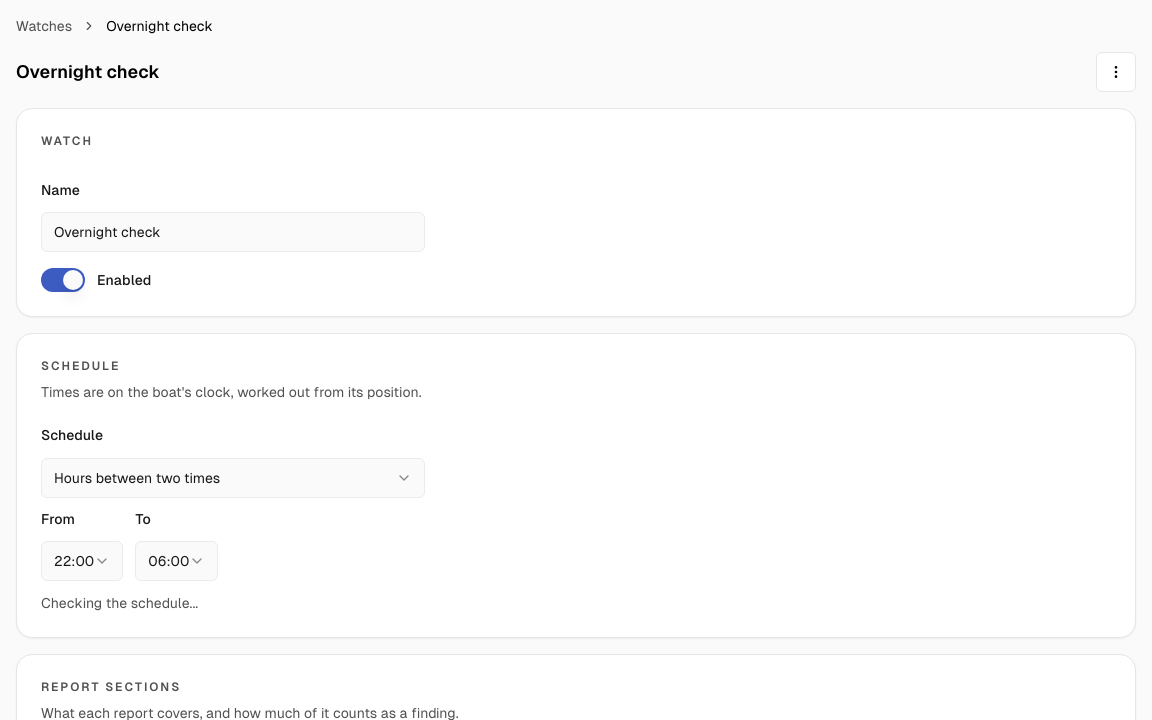
WatchDetailsPage settings › blocks Save and says why when the server refuses the schedule
Step 1. Replace the text in the field showing "Overnight check" with "Renamed" → (233, 232), box [41,212,425,252]
(page scrolled)
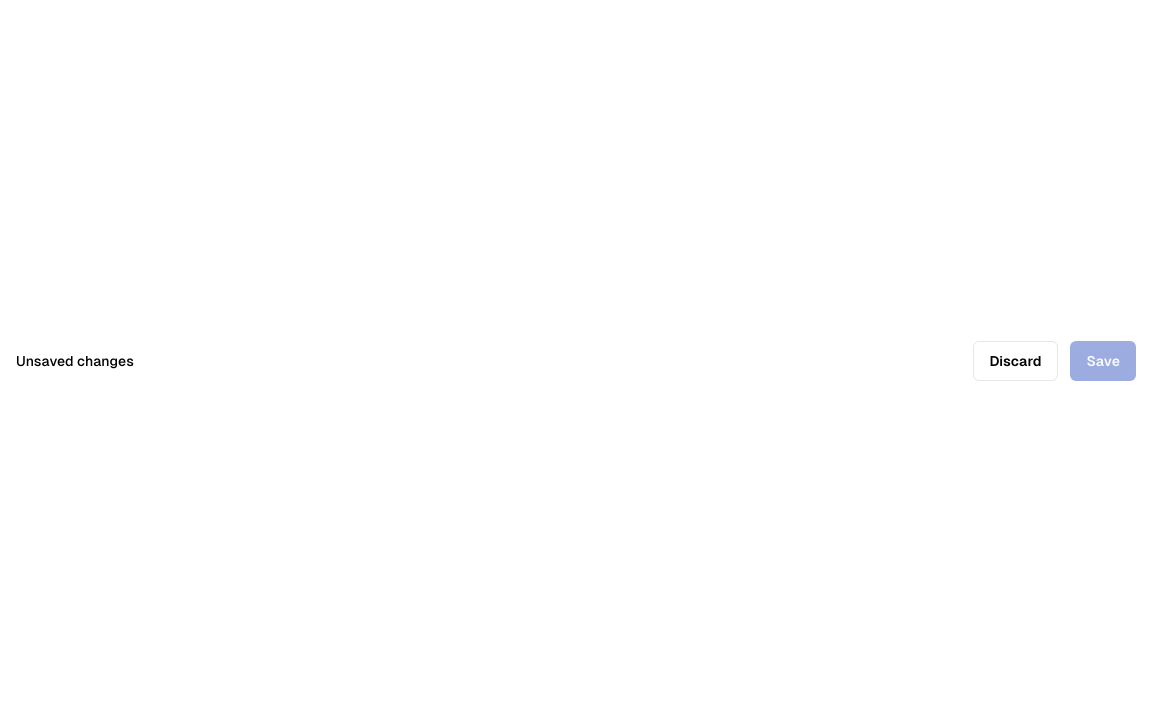
Result: the button "Save" is disabled at [1070,341,1136,381]
